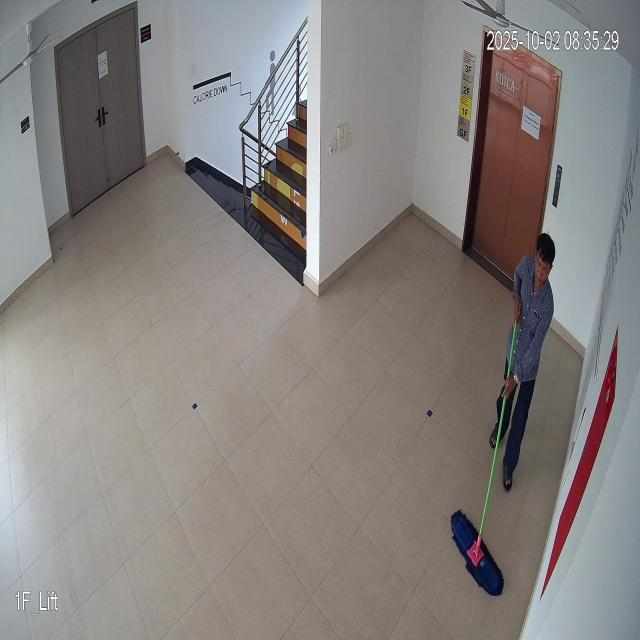face: (527, 232, 557, 289)
